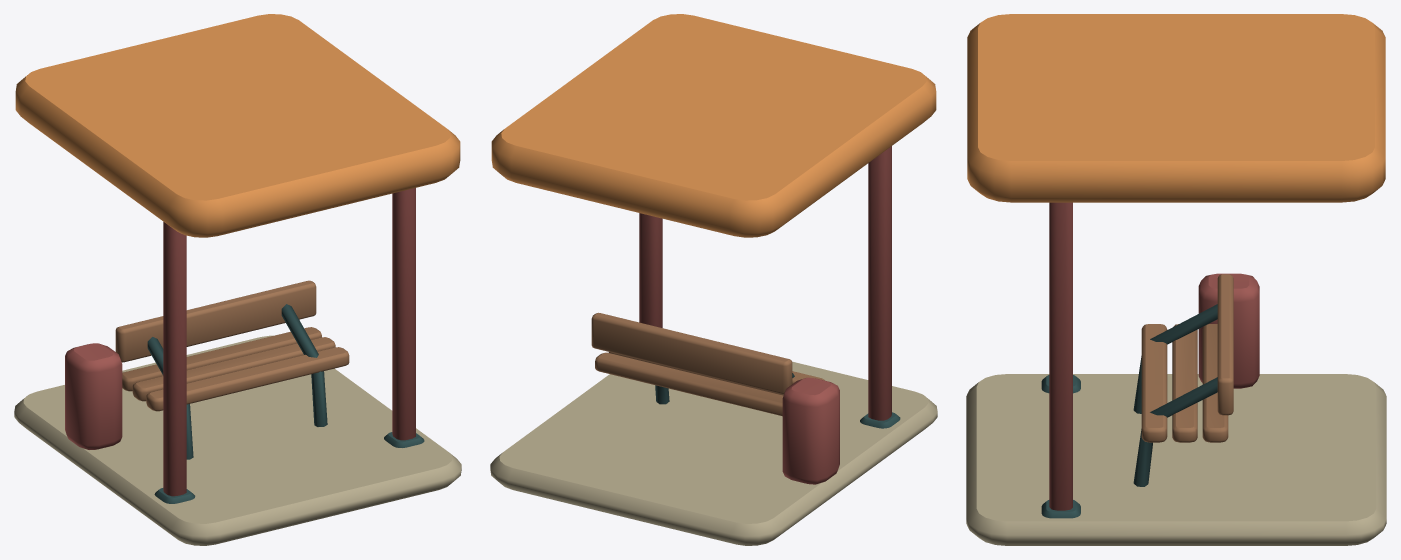
The model's file is route66_motel_2.glb.
3 renders of one model, left to right at view 1: azimuth 30°, elevation 25°; view 2: azimuth 150°, elevation 25°; view 3: azimuth 270°, elevation 25°, orthographic. The views are drawn at different scales.
Visible parts, largest first — view 1: Route66Motel2; view 2: Route66Motel2; view 3: Route66Motel2.
Boxes of the visible parts, box(x1,y1,x2,y2) form: Route66Motel2: box(14, 14, 461, 545); Route66Motel2: box(490, 14, 937, 545); Route66Motel2: box(966, 14, 1386, 545).
Size of the model in its own units: 2.18 by 2.51 by 2.48.
